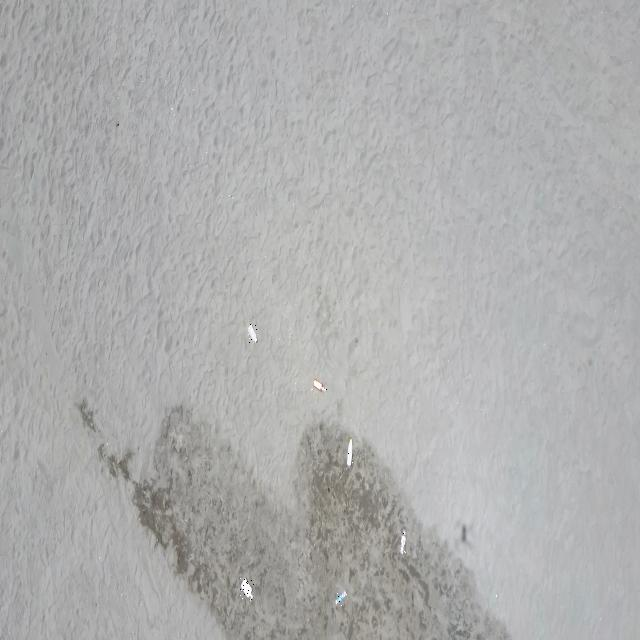plastic-bottle: (240, 576, 255, 600), (344, 436, 352, 468), (312, 379, 328, 394), (335, 589, 348, 607), (247, 323, 258, 344), (399, 529, 407, 555)
